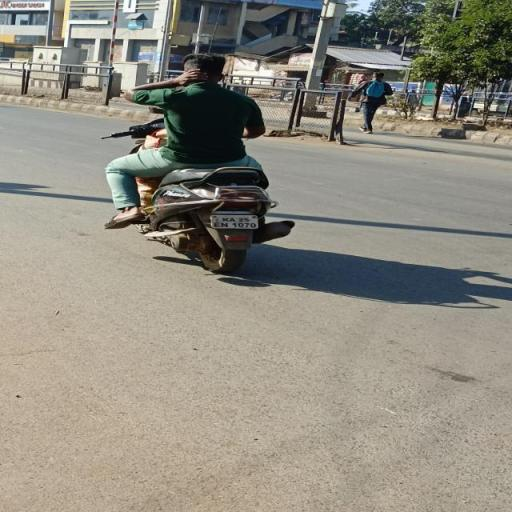bike: (86, 55, 300, 276)
numberplate: (209, 214, 263, 230)
withouthelmet: (186, 56, 224, 84)
